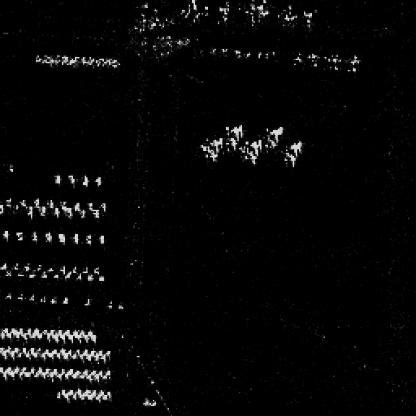airplane: (344, 52, 362, 73), (322, 52, 341, 70), (304, 50, 323, 65), (289, 50, 306, 65), (80, 174, 90, 187), (96, 232, 106, 244), (83, 232, 91, 245), (89, 208, 99, 218), (92, 176, 102, 186), (70, 231, 78, 242), (54, 174, 62, 185), (44, 229, 52, 239), (31, 229, 39, 239), (14, 229, 22, 239), (98, 202, 106, 212), (58, 200, 66, 210), (60, 297, 70, 304), (73, 202, 80, 212), (0, 201, 6, 212), (39, 294, 47, 302), (84, 202, 92, 210), (27, 294, 36, 301), (56, 231, 63, 240), (1, 228, 10, 235), (93, 265, 99, 275), (78, 208, 84, 218), (65, 206, 71, 216), (52, 206, 58, 216), (33, 198, 39, 208), (67, 174, 73, 184), (76, 372, 84, 379), (99, 372, 107, 379), (86, 393, 94, 400), (42, 346, 49, 354), (75, 271, 83, 278), (21, 263, 29, 270), (46, 200, 53, 208), (115, 301, 124, 307), (73, 367, 80, 374), (81, 367, 88, 374), (8, 349, 15, 356), (89, 349, 96, 356), (34, 263, 41, 270), (14, 366, 20, 374), (58, 368, 64, 376), (104, 368, 110, 376), (66, 388, 74, 394), (46, 350, 52, 358), (100, 352, 106, 360), (5, 293, 13, 299), (16, 293, 24, 299), (84, 273, 92, 279), (82, 265, 90, 271), (70, 265, 76, 273), (5, 270, 13, 276), (0, 262, 8, 268), (39, 205, 45, 213), (26, 208, 32, 216), (18, 200, 26, 206), (47, 370, 54, 376), (67, 367, 73, 374), (70, 372, 76, 379), (85, 372, 91, 379), (88, 367, 94, 374), (96, 367, 102, 374), (76, 388, 82, 395), (80, 393, 86, 400), (28, 346, 34, 353), (39, 349, 45, 356), (50, 346, 56, 353), (65, 346, 71, 353), (29, 332, 36, 338), (59, 333, 65, 340), (67, 333, 73, 340), (49, 297, 55, 304), (83, 297, 89, 304), (46, 266, 53, 272), (13, 263, 19, 270), (91, 388, 96, 396), (21, 344, 26, 352), (55, 350, 60, 358), (18, 326, 23, 334), (26, 325, 31, 333), (46, 332, 51, 340), (91, 333, 96, 341), (65, 272, 70, 280), (28, 272, 38, 276), (5, 366, 11, 372), (28, 366, 34, 372), (32, 369, 38, 375), (85, 388, 91, 394), (0, 349, 6, 355), (5, 345, 11, 351), (31, 351, 37, 357), (85, 353, 91, 359), (92, 353, 98, 359), (10, 327, 16, 333), (14, 332, 20, 338), (33, 327, 39, 333), (106, 300, 112, 306), (98, 275, 104, 281), (59, 267, 65, 273), (96, 393, 101, 400), (102, 393, 107, 400), (25, 349, 30, 356), (42, 328, 47, 335), (48, 328, 53, 335), (57, 328, 62, 335), (86, 330, 93, 335), (10, 370, 14, 378), (16, 272, 24, 276), (21, 366, 26, 372), (18, 371, 23, 377), (25, 369, 30, 375), (35, 366, 40, 372), (50, 367, 56, 372), (62, 372, 68, 377), (55, 392, 60, 398), (60, 388, 65, 394), (63, 392, 68, 398), (99, 388, 104, 394), (106, 390, 112, 395), (62, 351, 68, 356), (78, 352, 83, 358), (3, 327, 8, 333), (38, 332, 43, 338), (76, 333, 82, 338), (52, 273, 58, 278), (41, 273, 47, 278), (94, 374, 101, 378), (98, 349, 102, 356), (106, 349, 110, 356), (44, 367, 49, 372), (55, 372, 60, 377), (13, 346, 18, 351), (16, 351, 21, 356), (35, 346, 40, 351), (65, 328, 70, 333), (73, 328, 78, 333), (83, 333, 88, 338), (40, 371, 44, 377), (72, 351, 76, 357), (74, 348, 80, 352), (6, 332, 12, 336), (73, 392, 78, 396), (83, 348, 88, 352), (80, 330, 84, 335), (0, 344, 3, 350), (0, 332, 3, 338), (23, 332, 26, 338), (61, 346, 63, 353), (54, 333, 56, 340)
